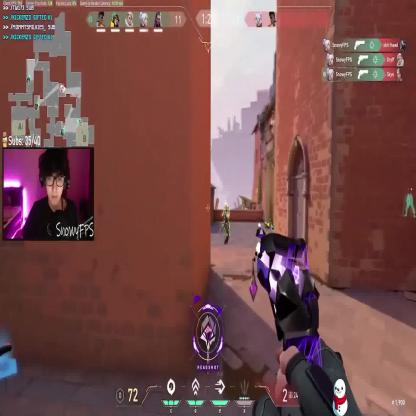enemy: (221, 200, 230, 247)
enemy_head: (224, 201, 229, 212)
